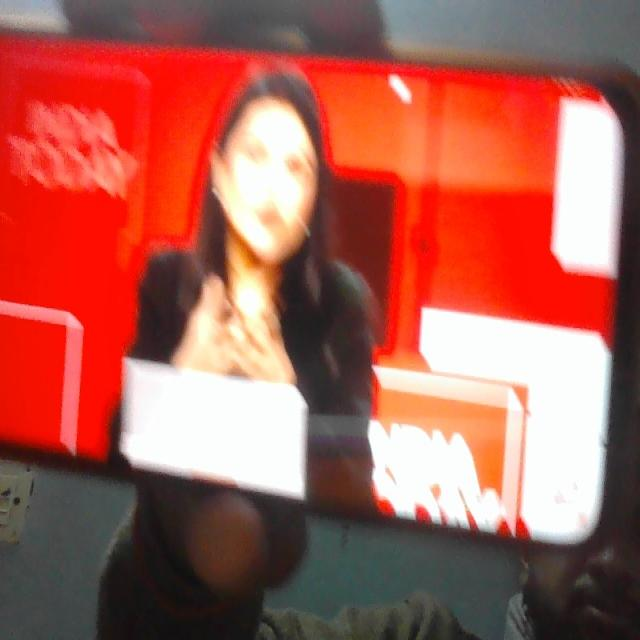fake: (212, 60, 326, 275)
